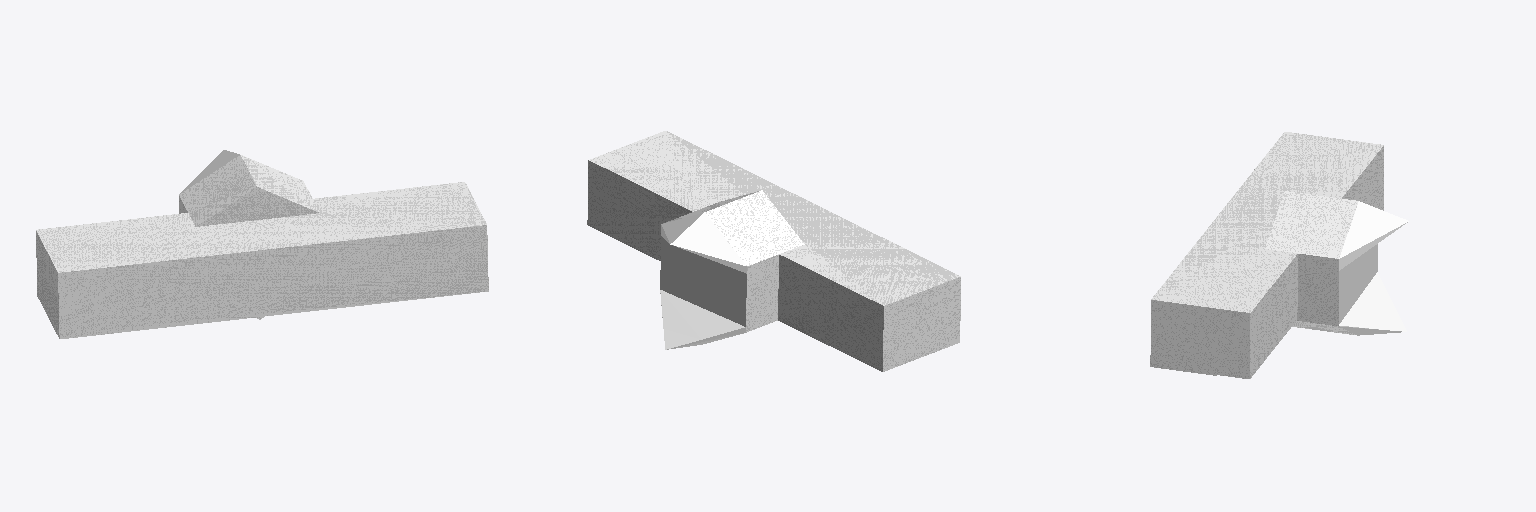
File: GasSac_Valve_Closed_Highlight.obj
The picture shows the model from 3 angles: view 1: azimuth 30°, elevation 25°; view 2: azimuth 150°, elevation 25°; view 3: azimuth 270°, elevation 25°; orthographic projection.
Visible parts, largest first — view 1: Mesh1 Model; view 2: Mesh1 Model; view 3: Mesh1 Model.
Boxes of the visible parts, x1=… form: Mesh1 Model: x1=36, y1=150, x2=488, y2=338; Mesh1 Model: x1=587, y1=131, x2=960, y2=371; Mesh1 Model: x1=1150, y1=132, x2=1408, y2=378.
Bounding box in the file's own units: 0.0391 × 0.0128 × 0.0224.